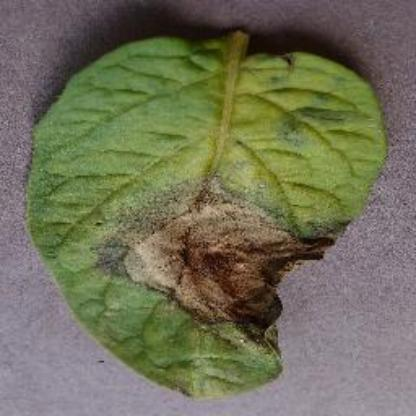Late-Blight: (23, 25, 388, 399)
